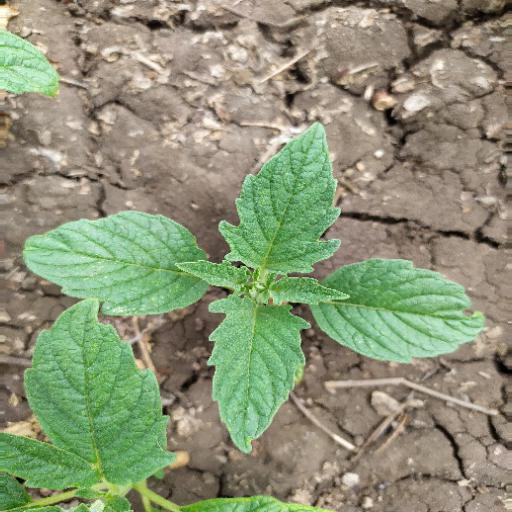crop: (26, 127, 483, 457)
